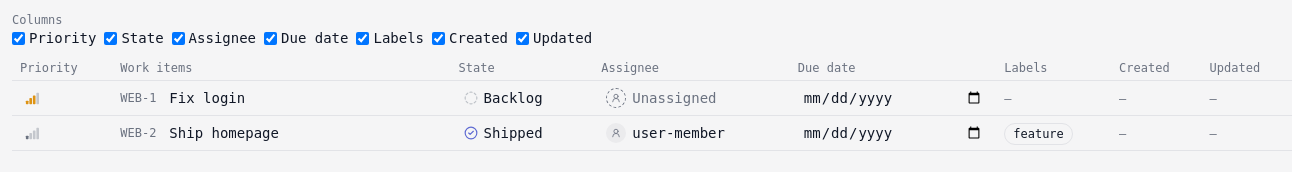
Test: issue table › column toggles hide and reshow optional columns
Expected: the date field named "due date for WEB-1" is shown, [798,85,988,111]
Click the checkbox labelled "Due date": (270, 38) [264,32,277,44]
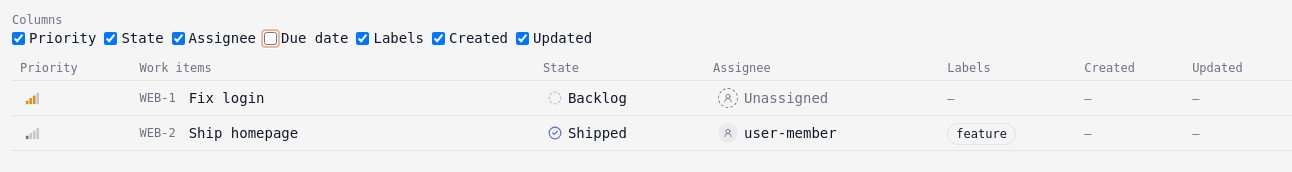
Expected: the field named "title for WEB-1" is shown, [184,85,527,111]
Click the checkbox labelled "Due date": (270, 38) [264,32,277,44]
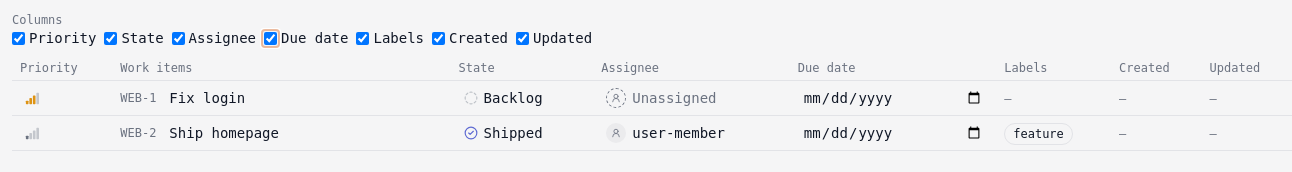
Now the date field named "due date for WEB-1" is shown, box [798,85,988,111]
